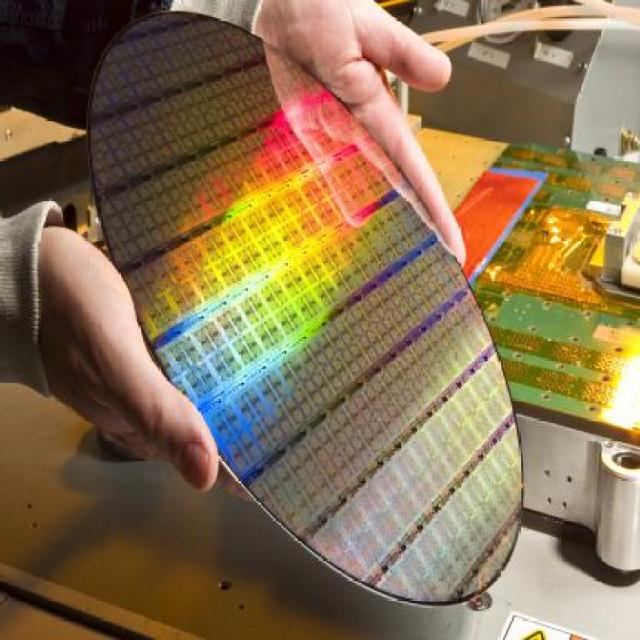Wafer: (85, 12, 523, 608)
